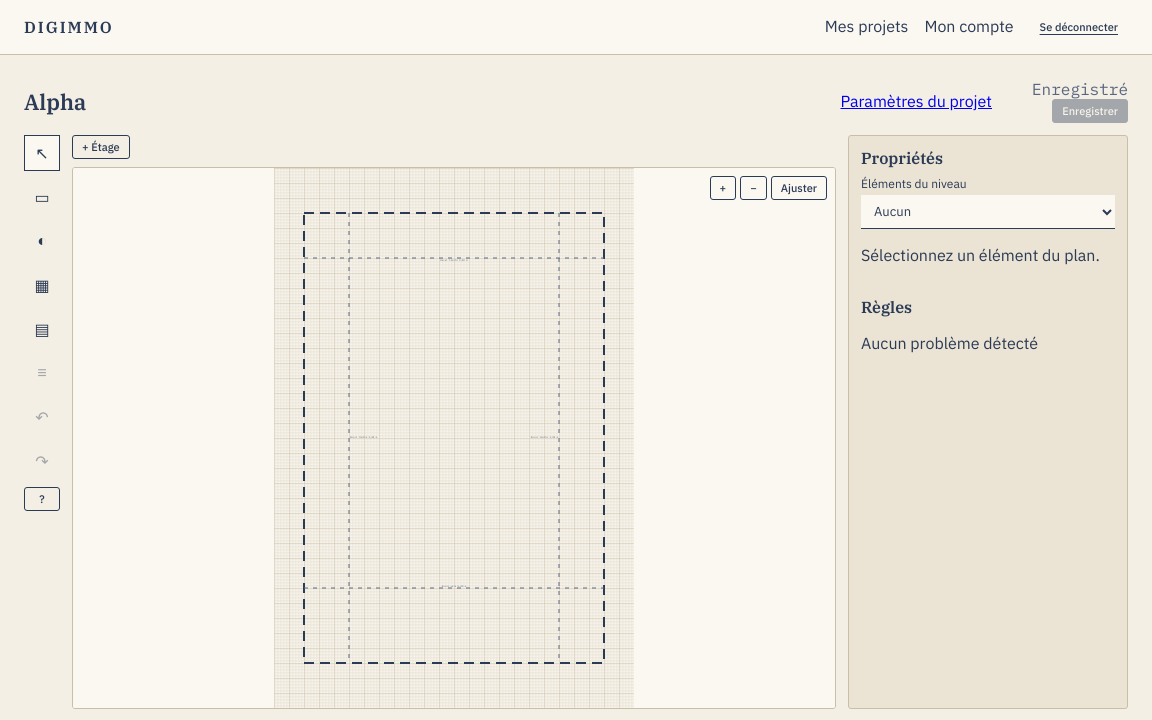
Scenario: raccourcis dans la page › « ? » ouvre l'aide, accessible (axe), et le bouton de la barre d'outils aussi
Expected: the picture named "Plan du projet" is shown, 73,168 -> 835,708
Press ?
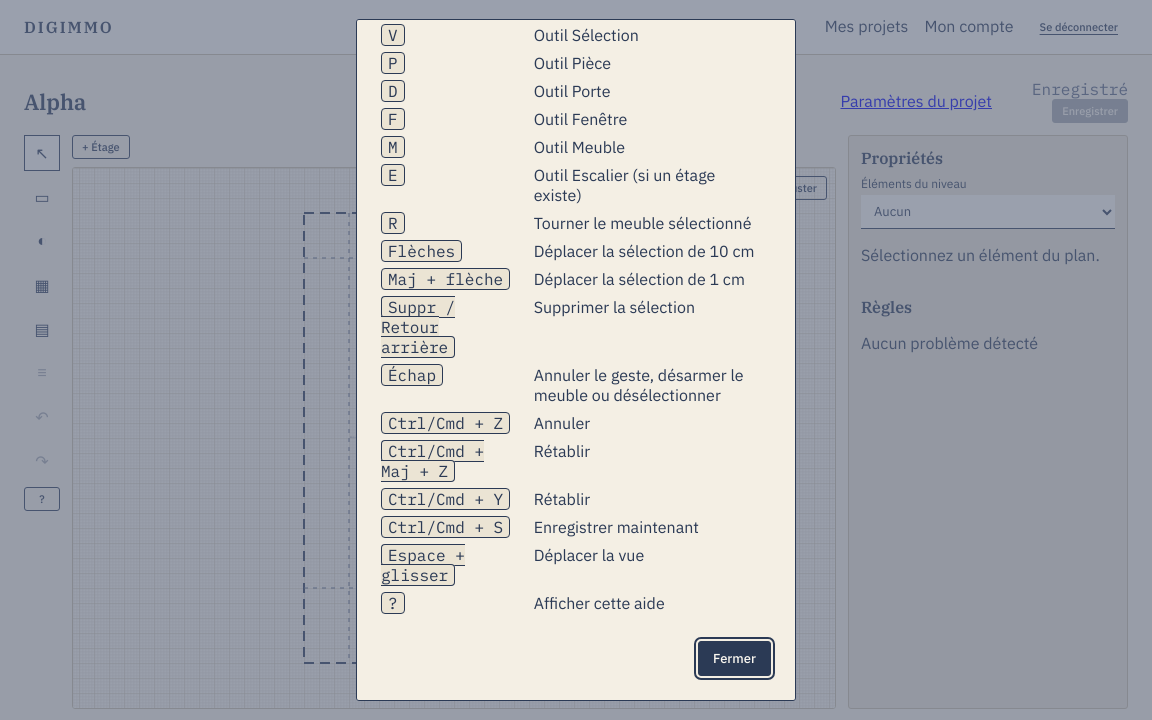
Result: the dialog "Raccourcis clavier" is shown at 356,19 -> 796,701
Click the button "Fermer".
click(735, 658)  # box 698,641 -> 771,676
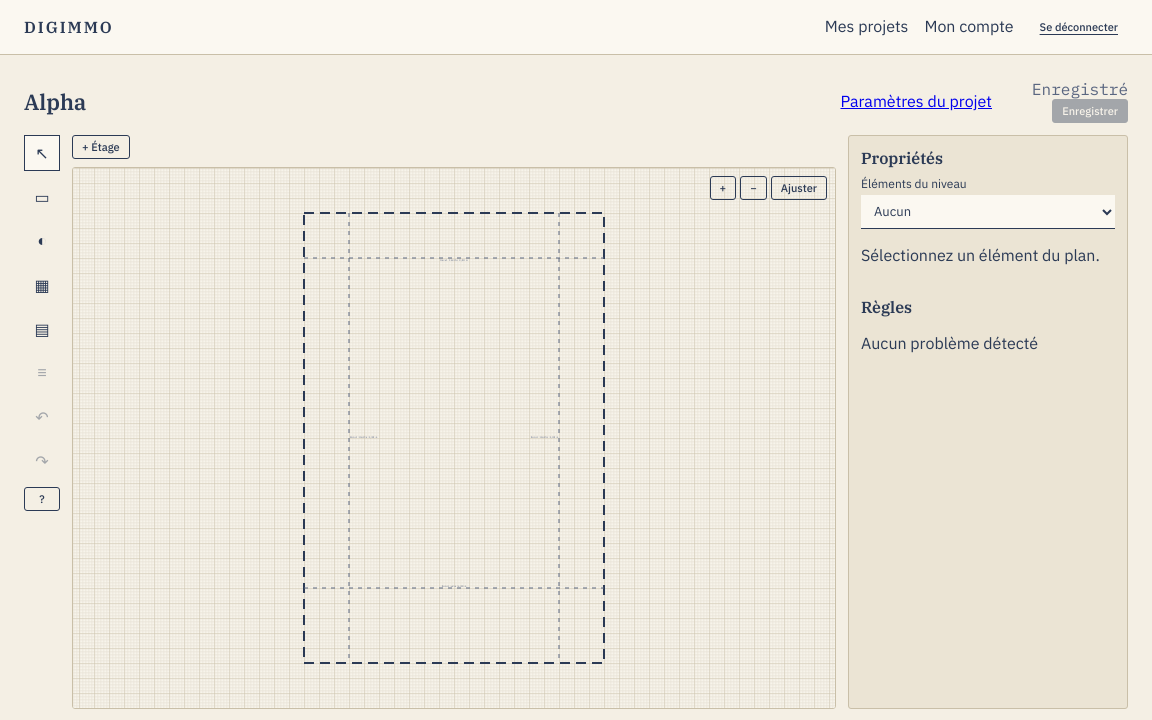
Click the button named "Raccourcis clavier (?)".
click(42, 499)  # box 24,487 -> 60,511
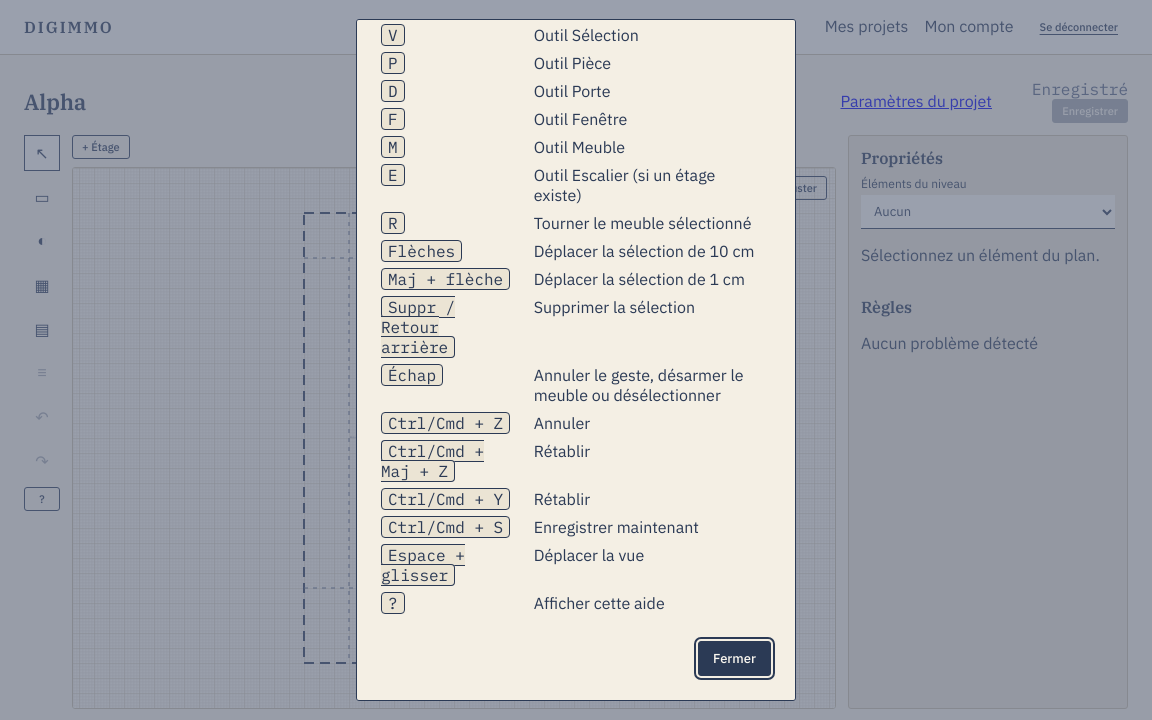
Result: the dialog "Raccourcis clavier" is shown at 356,19 -> 796,701
